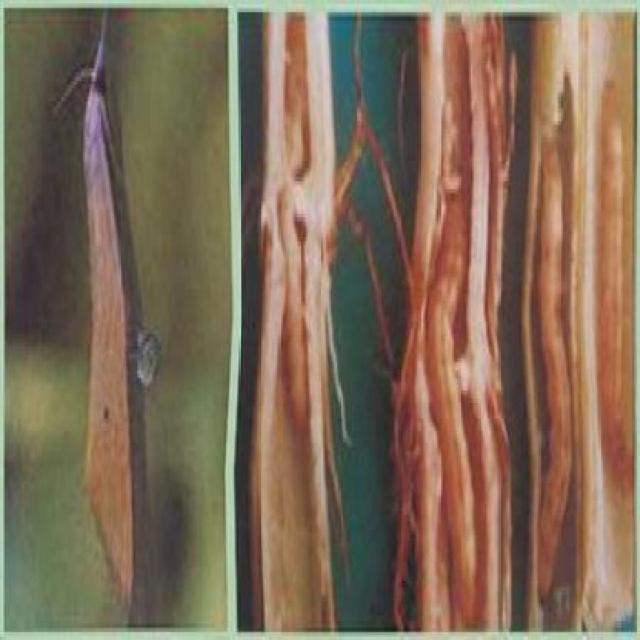stem-borer: (77, 9, 134, 631)
